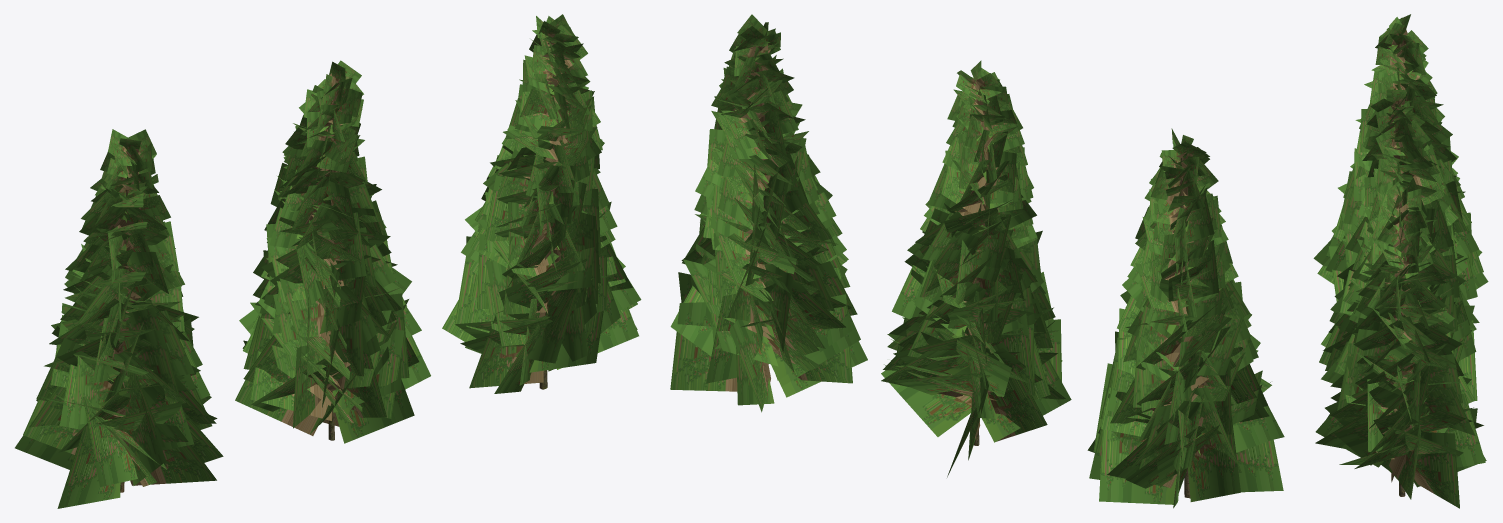
Rendered from low_poly_trees_free.glb.
The picture shows the model from 3 angles, left to right: view 1: azimuth 30°, elevation 25°; view 2: azimuth 150°, elevation 25°; view 3: azimuth 270°, elevation 25°; orthographic projection. The views are drawn at different scales.
Visible parts, largest first — view 1: Tree-1_1, Tree_0, Tree-2_2; view 2: Tree-2_2, Tree_0, Tree-1_1; view 3: Tree-2_2, Tree-1_1, Tree_0.
Part boxes in pixels (left/top/right/bottom): Tree-1_1: left=235, top=60, right=430, bottom=443; Tree_0: left=15, top=129, right=223, bottom=508; Tree-2_2: left=442, top=14, right=641, bottom=393; Tree-2_2: left=670, top=14, right=867, bottom=412; Tree_0: left=1087, top=128, right=1284, bottom=508; Tree-1_1: left=881, top=60, right=1071, bottom=477; Tree-2_2: left=1315, top=181, right=1486, bottom=508; Tree-1_1: left=1319, top=89, right=1477, bottom=400; Tree_0: left=1313, top=14, right=1488, bottom=323.
Size of the model in its own units: 2.74 by 1.72 by 0.8423.
Materials: 2 (2 with a texture image).
